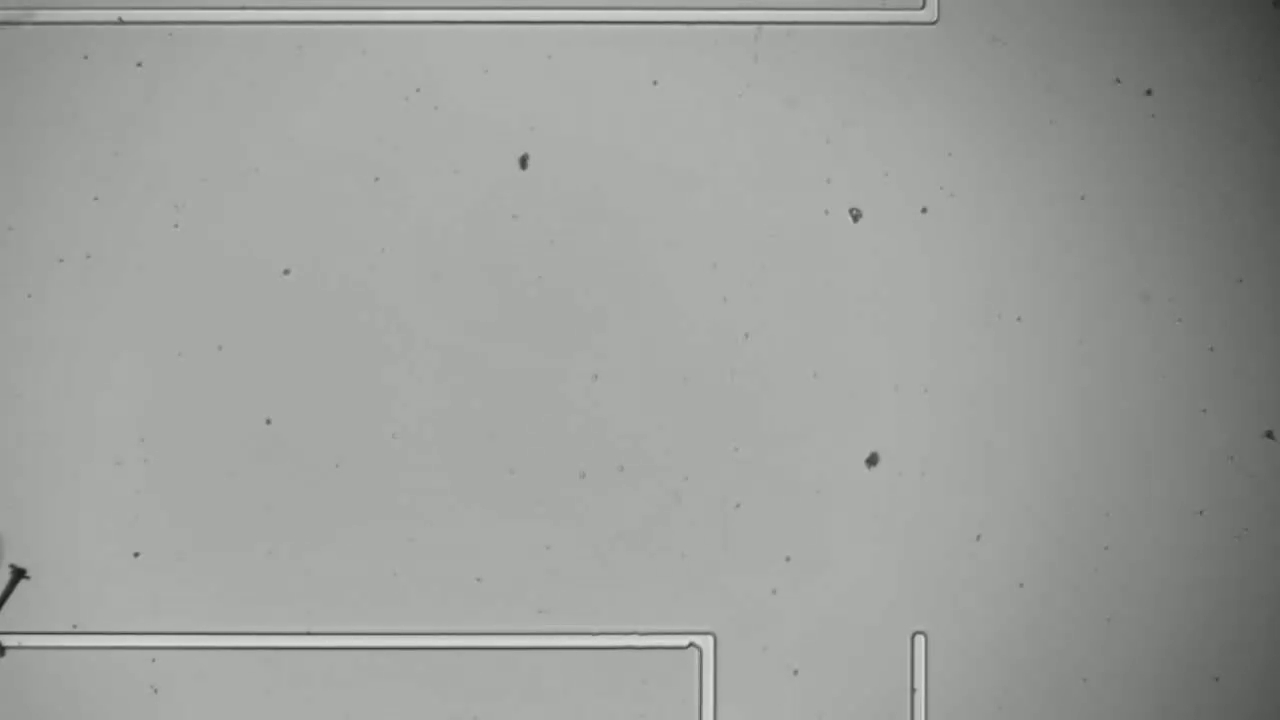edge_bite: (678, 625, 708, 656)
